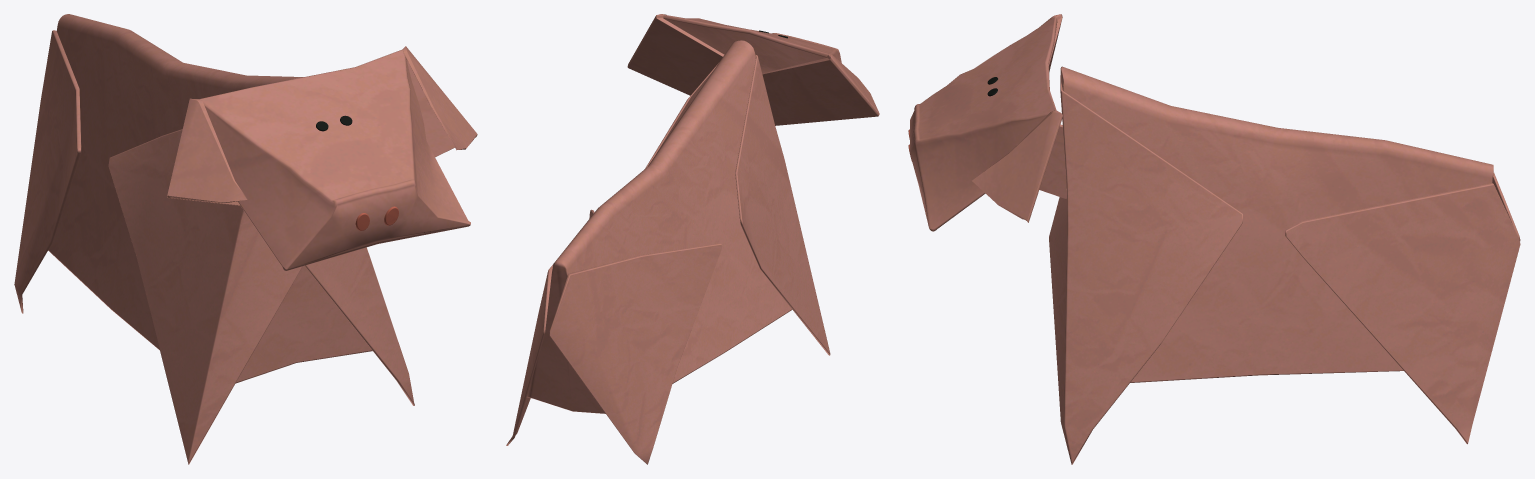
File: Pig3D.fbx
3 renders of one model, left to right at view 1: azimuth 30°, elevation 25°; view 2: azimuth 150°, elevation 25°; view 3: azimuth 270°, elevation 25°, orthographic. The views are drawn at different scales.
Parts seen in each view (by area): view 1: node_id272; view 2: node_id272; view 3: node_id272.
Boxes of the visible parts, x1,y1,x2,y2 form: node_id272: (14,14,477,464); node_id272: (506,14,879,464); node_id272: (908,14,1520,464).
Bounding box in the file's own units: 0.4515 × 0.512 × 0.8191.
Materials: 1 (1 with a texture image).
